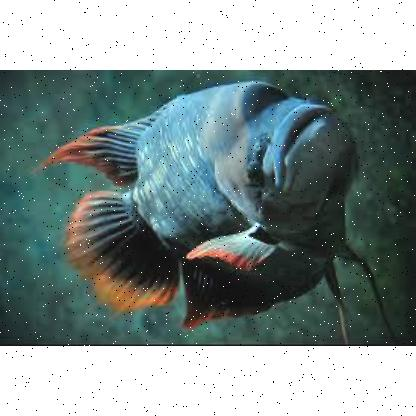gurame: (63, 75, 361, 324)
